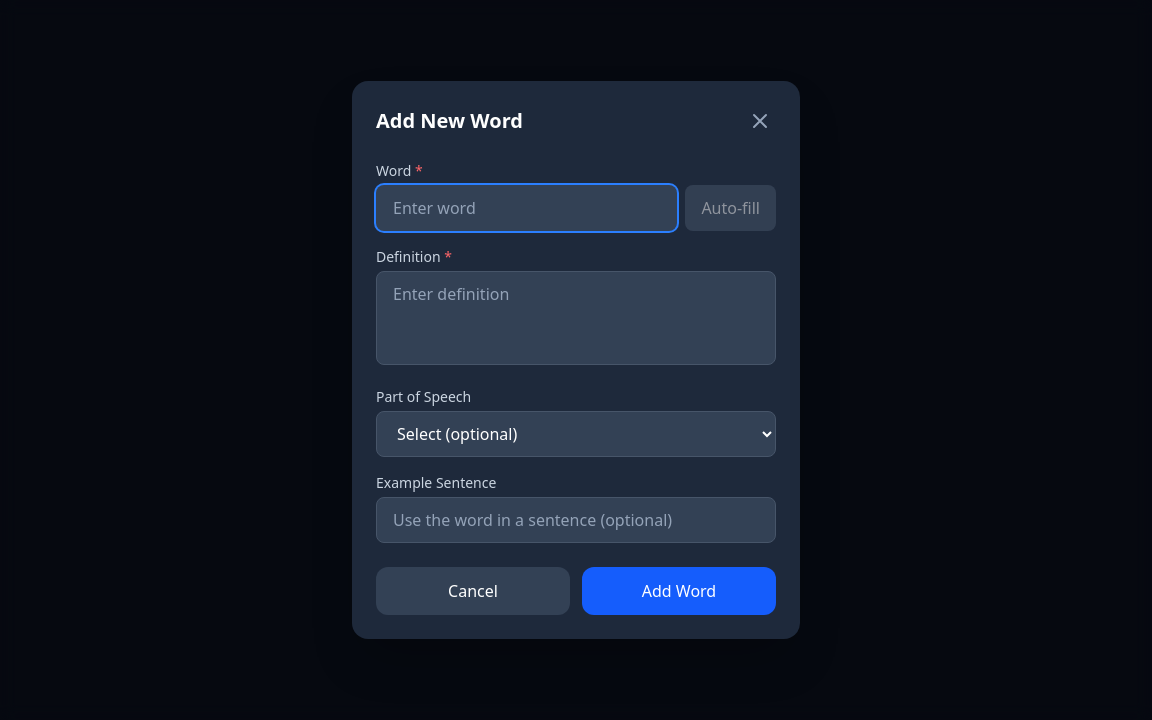
Test: AddWordModal › only offers auto-fill once a word is entered
Expected: the button "Auto-fill" is disabled, [685, 185, 776, 231]
In the field labelled "Word *": (527, 208) [376, 185, 677, 231], type "sere"
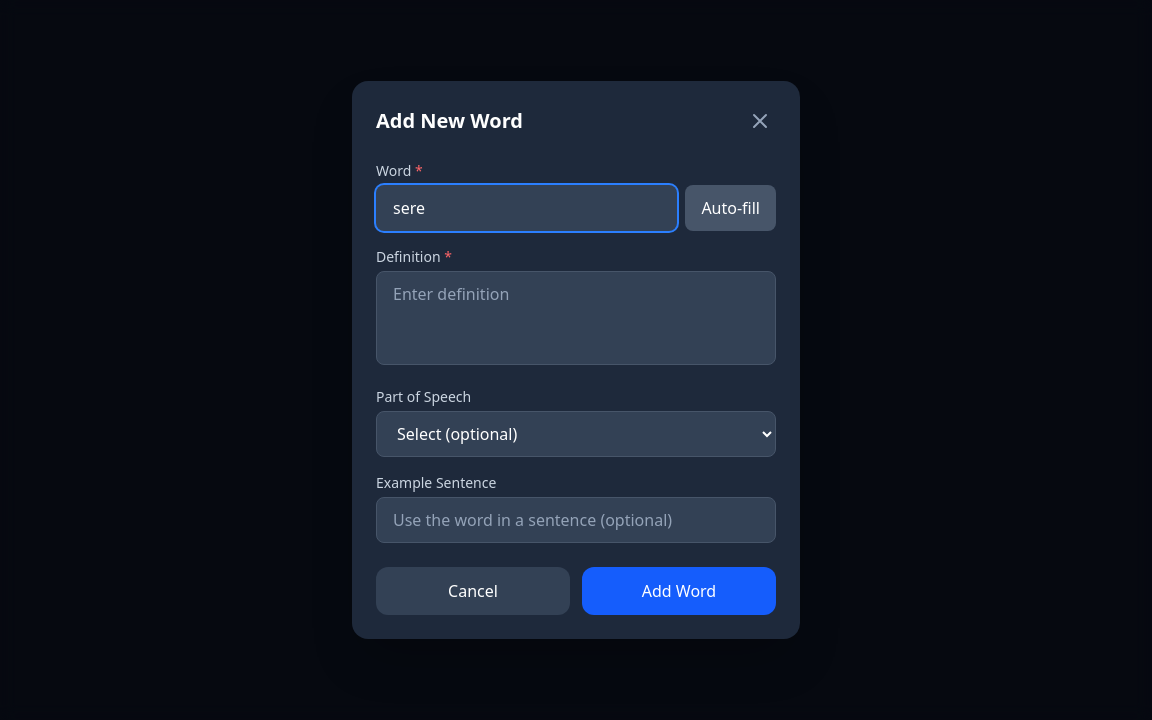
Now the button "Auto-fill" is enabled, box [685, 185, 776, 231]
